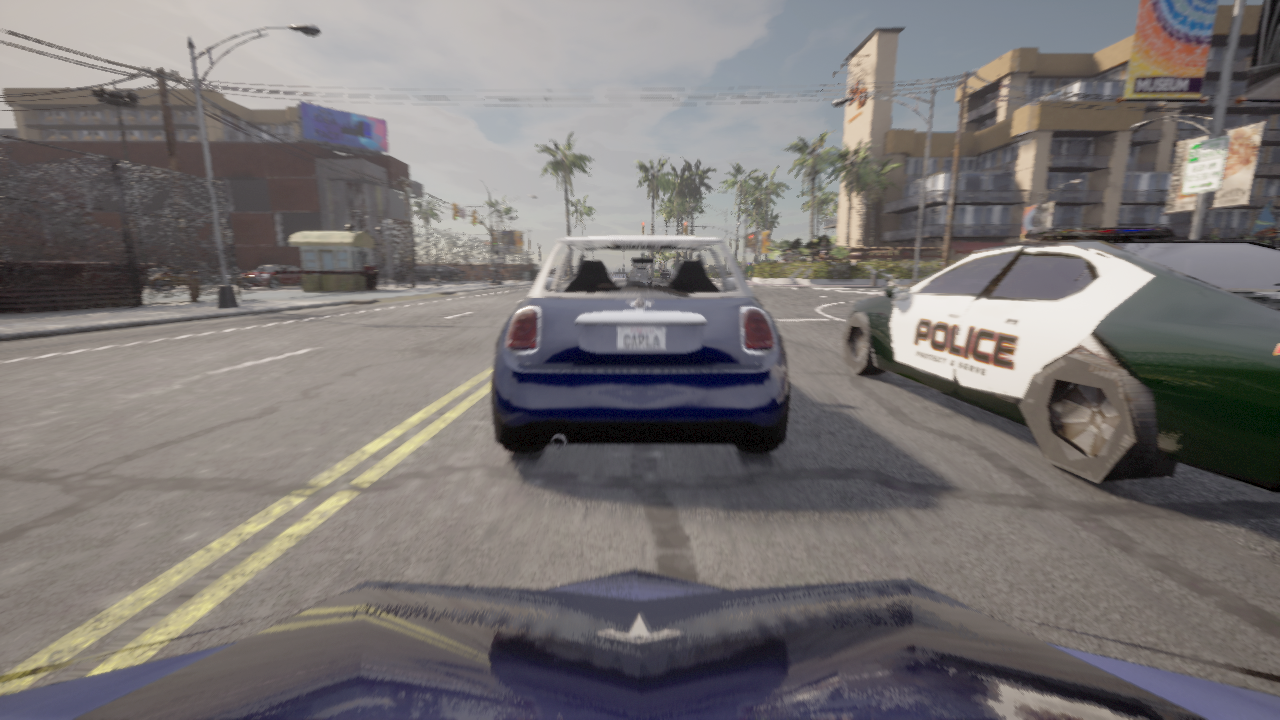cyclist: (0, 569, 1279, 719), (840, 228, 1279, 492), (490, 236, 790, 453), (238, 264, 301, 289), (149, 268, 199, 289), (415, 265, 465, 281), (211, 270, 248, 284), (197, 270, 209, 283), (157, 265, 173, 267)
